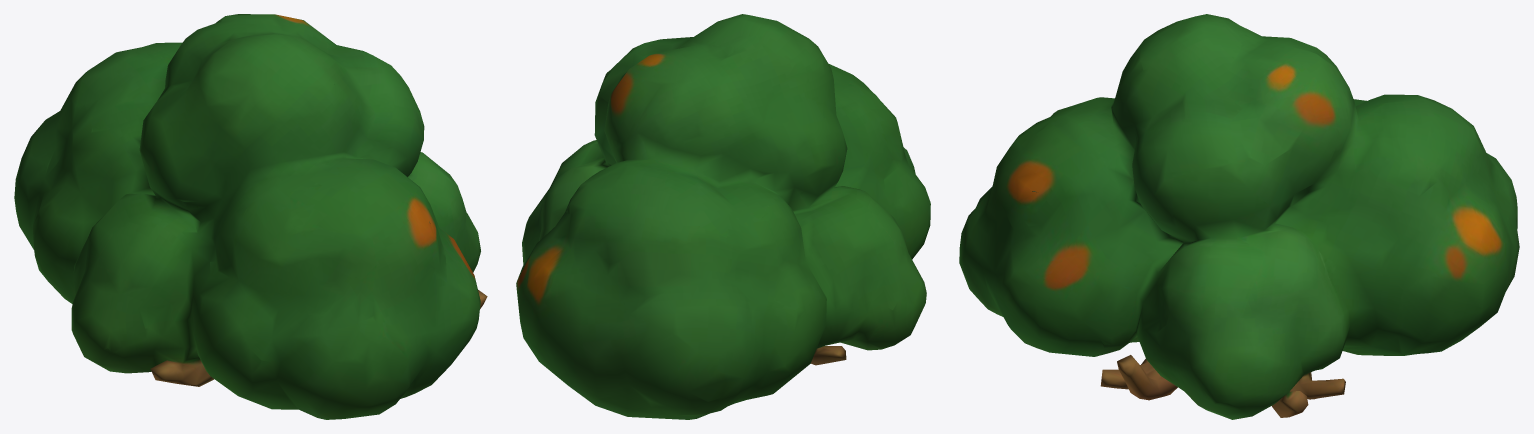
Rendered from pro_bush-Id3t34TN.glb.
The picture shows the model from 3 angles, left to right: view 1: azimuth 30°, elevation 25°; view 2: azimuth 150°, elevation 25°; view 3: azimuth 270°, elevation 25°; orthographic projection. The views are drawn at different scales.
Parts seen in each view (by area): view 1: tripo_node_533c3705-1b6c-40ed-902e-7fdc13806c24; view 2: tripo_node_533c3705-1b6c-40ed-902e-7fdc13806c24; view 3: tripo_node_533c3705-1b6c-40ed-902e-7fdc13806c24.
Part boxes in pixels (x1,y1,x2,y2): tripo_node_533c3705-1b6c-40ed-902e-7fdc13806c24: [14, 14, 487, 419]; tripo_node_533c3705-1b6c-40ed-902e-7fdc13806c24: [516, 14, 930, 419]; tripo_node_533c3705-1b6c-40ed-902e-7fdc13806c24: [959, 14, 1519, 419].
Size of the model in its own units: 0.8008 by 0.6464 by 1.
1 material, 1 textured.
